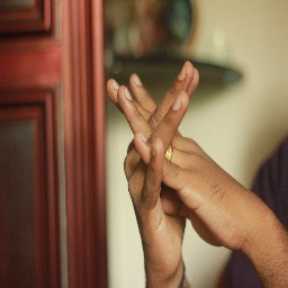W: (103, 55, 226, 225)
